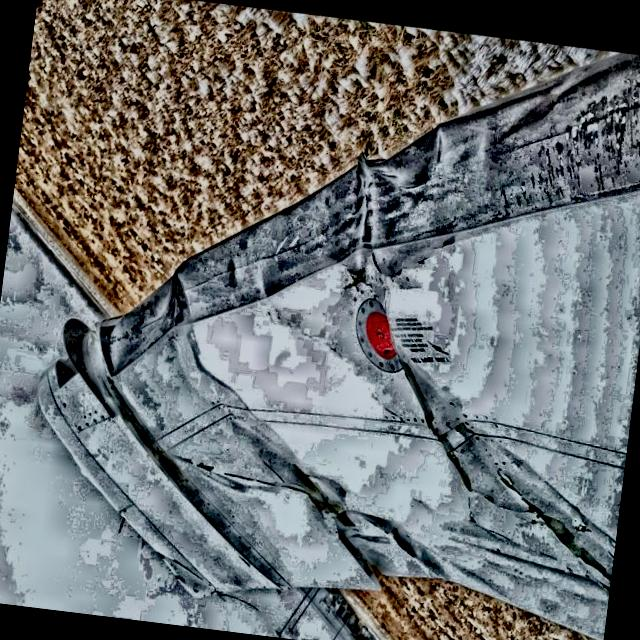crack: (271, 453, 449, 600), (478, 464, 623, 583), (384, 362, 485, 489)
